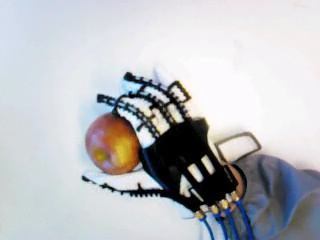apple: (83, 112, 140, 173)
hand: (81, 71, 239, 223)
